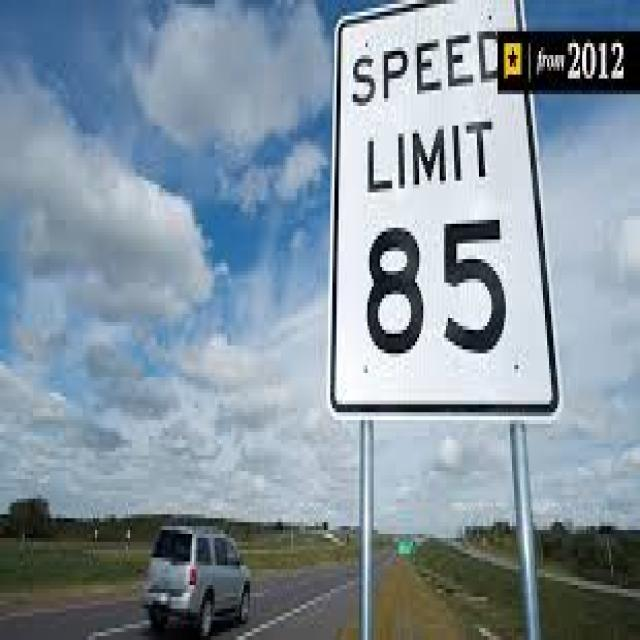Speed Limit Signs: (320, 0, 558, 424)
